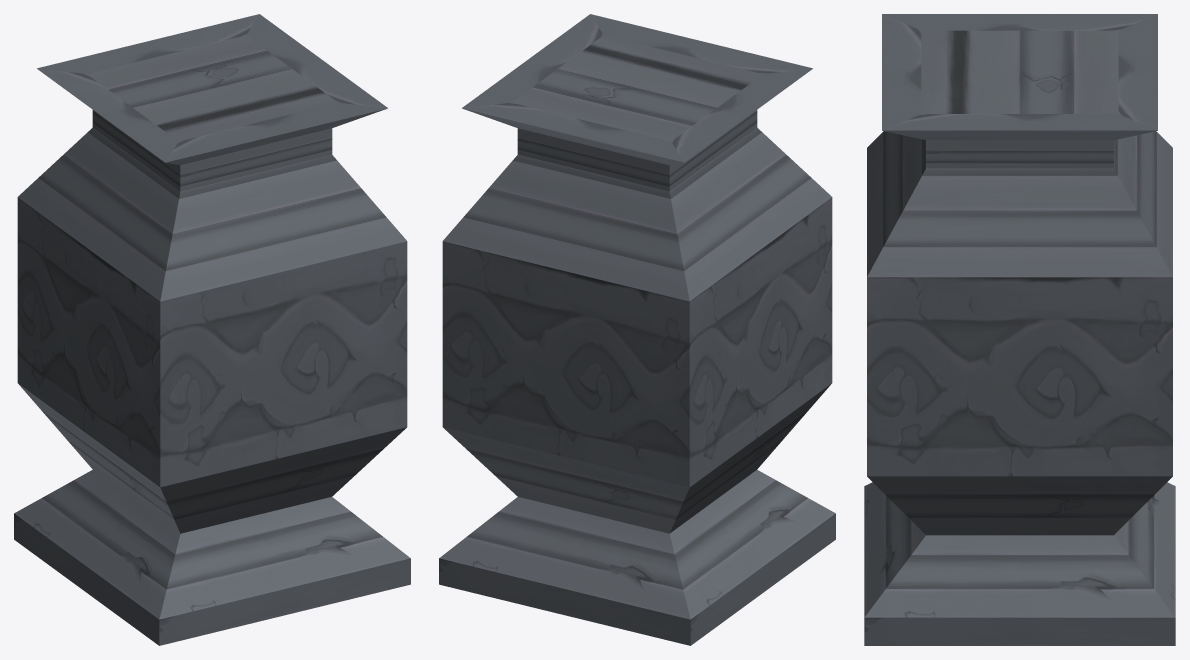
File: Guci Fix.fbx
3 renders of one model, left to right at view 1: azimuth 30°, elevation 25°; view 2: azimuth 150°, elevation 25°; view 3: azimuth 270°, elevation 25°, orthographic. The views are drawn at different scales.
Parts seen in each view (by area): view 1: Cube.003; view 2: Cube.003; view 3: Cube.003.
Part boxes in pixels (x1=…): Cube.003: x1=14, y1=14, x2=410, y2=645; Cube.003: x1=439, y1=14, x2=835, y2=645; Cube.003: x1=864, y1=14, x2=1175, y2=645.
Bounding box in the file's own units: 100 × 180 × 100.
